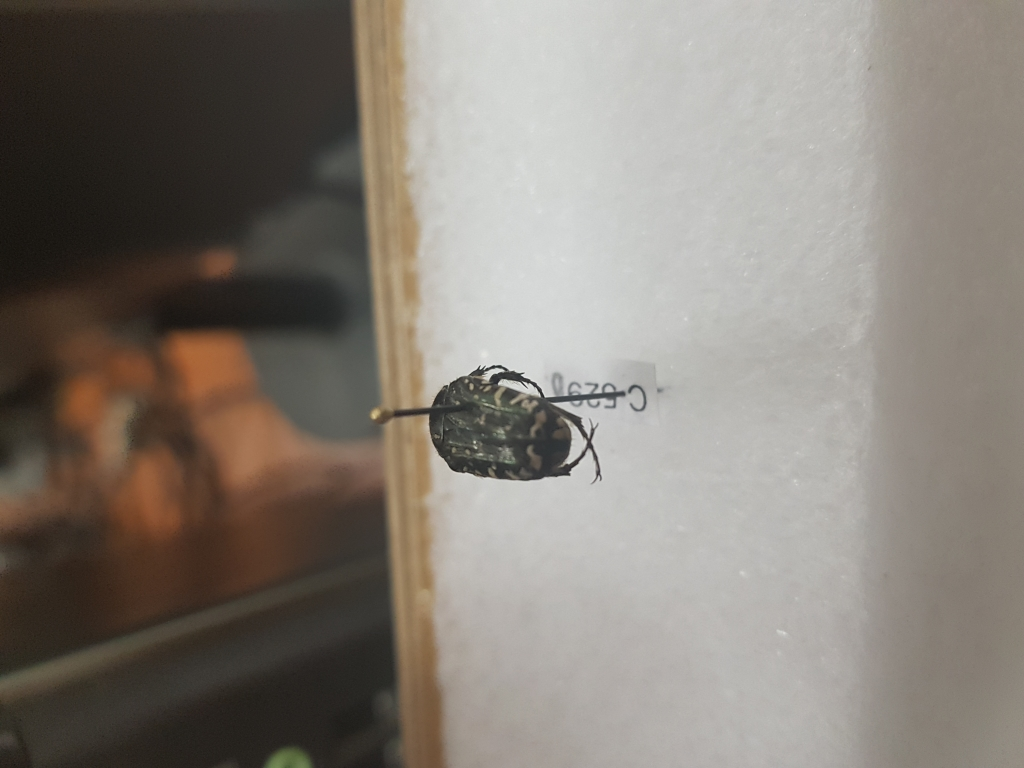Oxythyrea_funesta: (412, 354, 607, 504)
